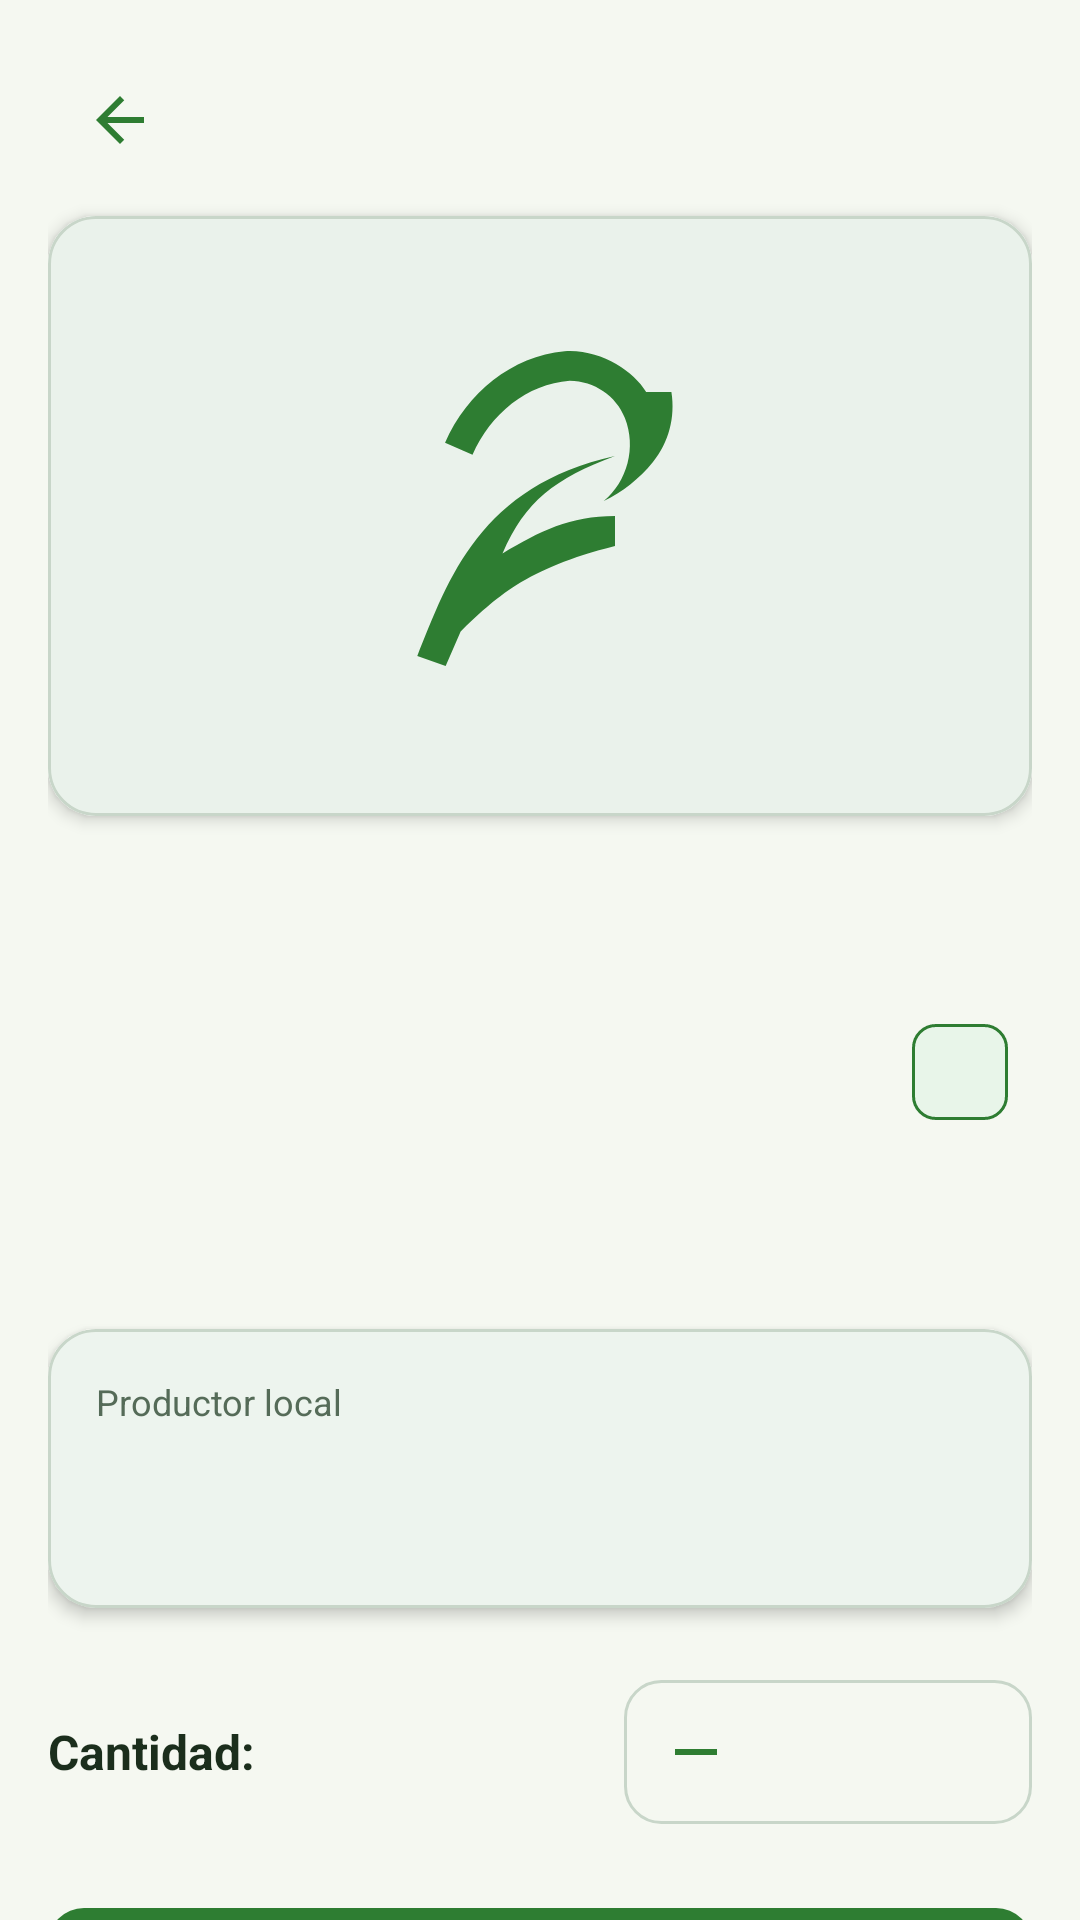

Icons on this 1080px×1920px Android screen, each with the point to tap as [x,y]:
Volver a la pantalla anterior: [120,120]
